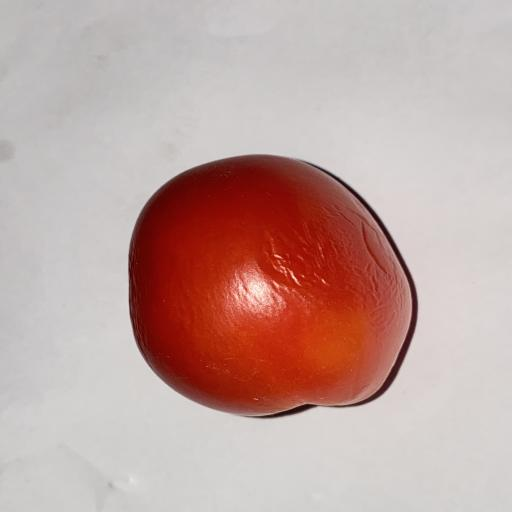spoiled: (129, 155, 412, 415)
